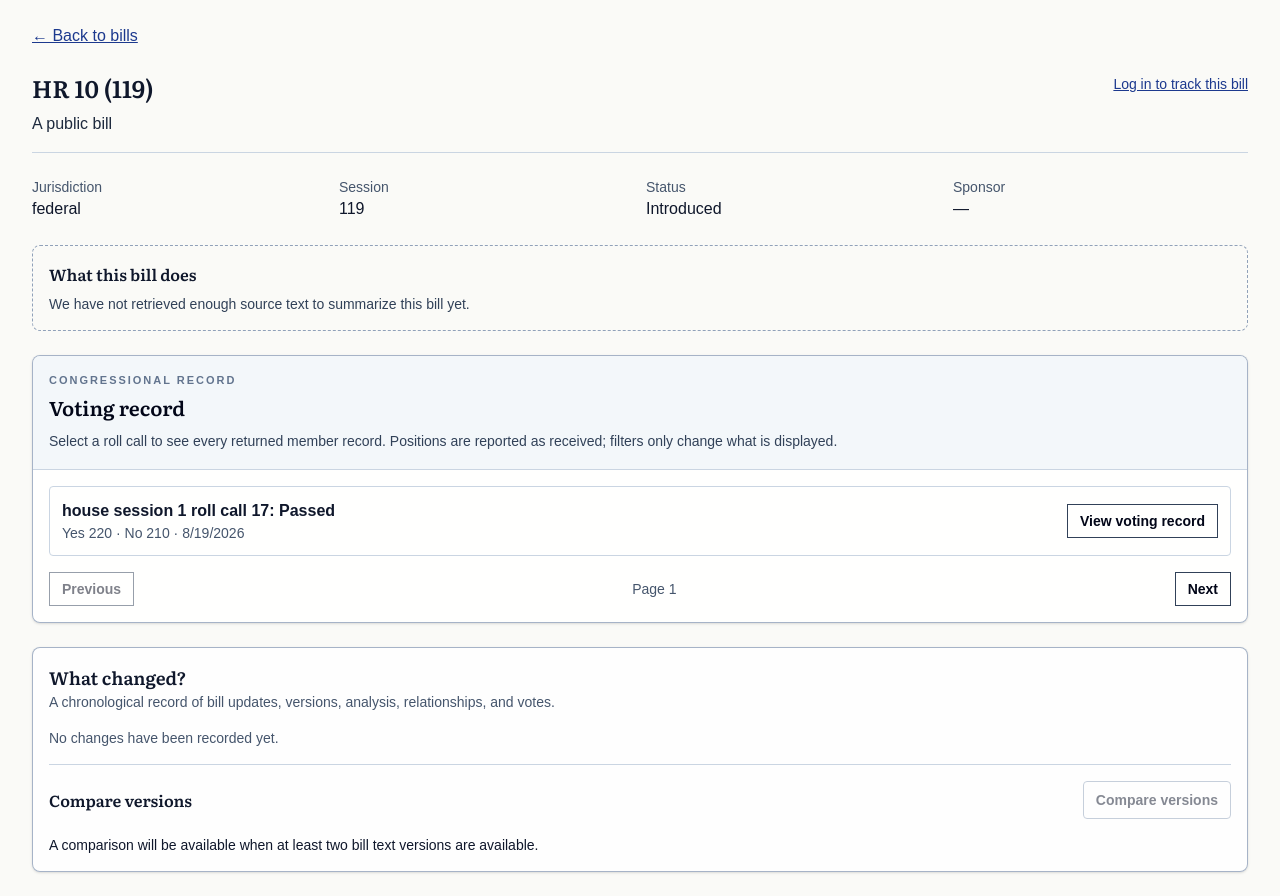
Test: BillDetailPage › keeps vote history visible when a later page fails and retries that section
Check: the text "house session 1 roll call 17: Passed" is shown, box left=62, top=498, right=335, bottom=522
Click the button with aria-label "Next vote history page": [1203, 588] box left=1175, top=572, right=1231, bottom=606
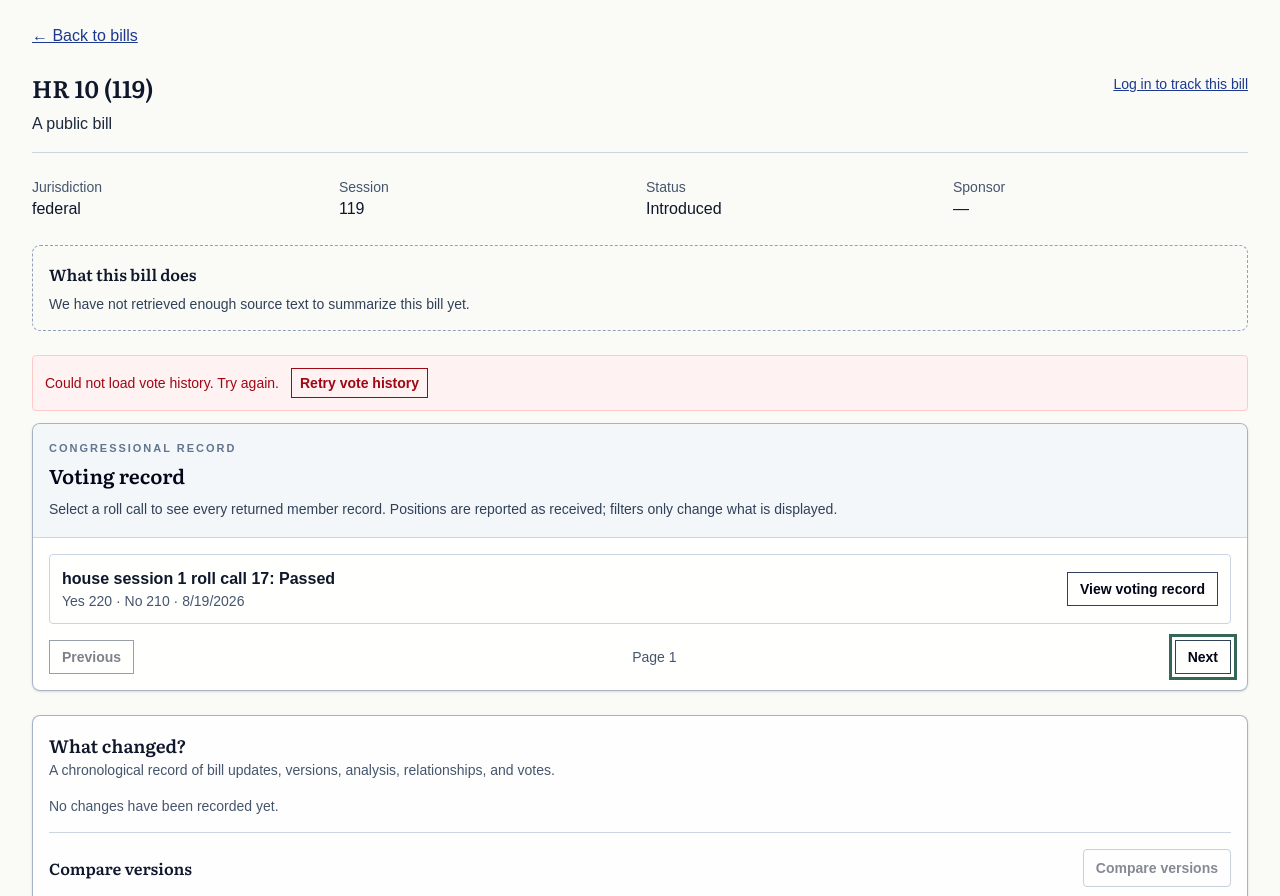
Check: the text "house session 1 roll call 17: Passed" is shown, box left=62, top=566, right=335, bottom=590
Check: the text "Could not load vote history. Try again." is shown, box left=45, top=373, right=279, bottom=393
Click the button "Retry vote history": [360, 383] box left=291, top=368, right=428, bottom=398
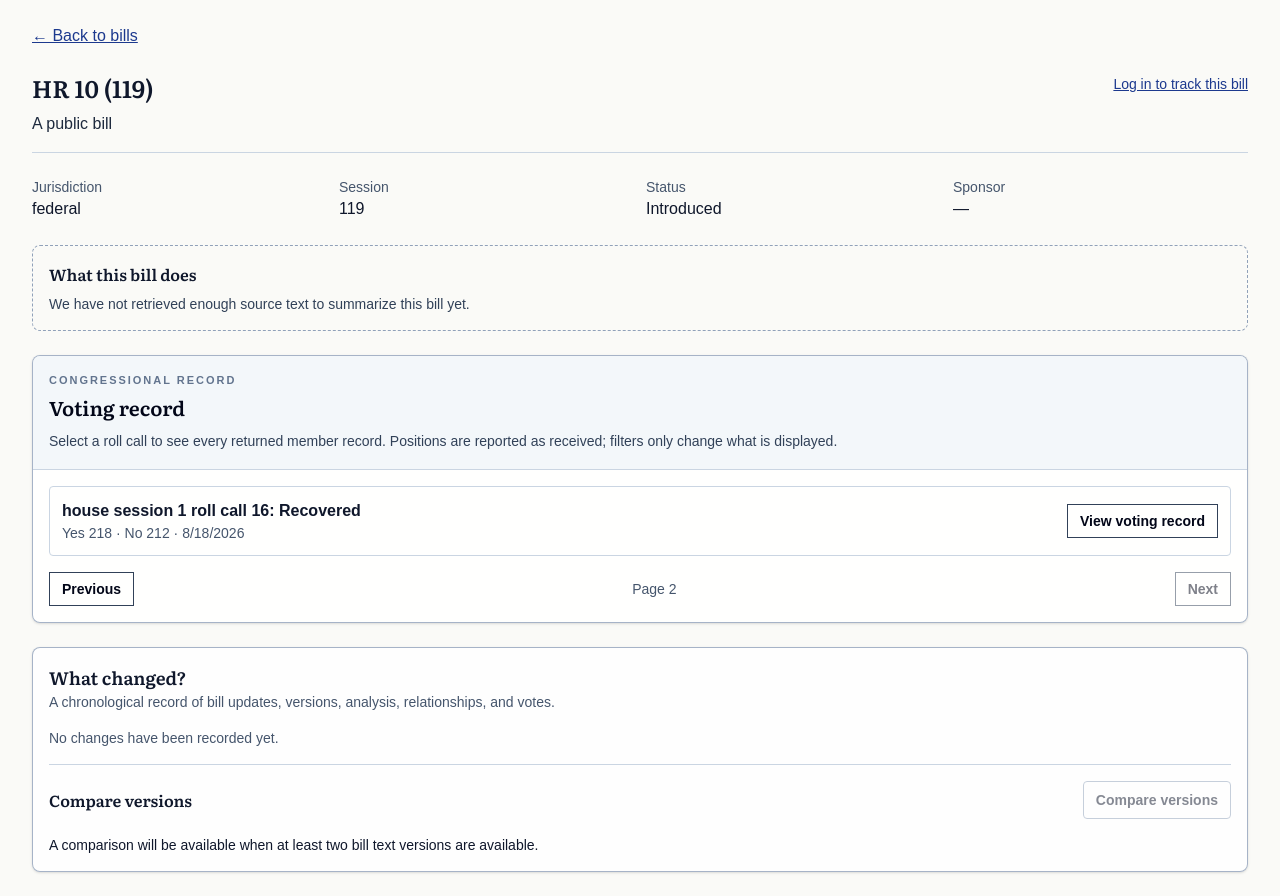
Check: the text "house session 1 roll call 16: Recovered" is shown, box left=62, top=498, right=361, bottom=522
Check: the text "Could not load vote history. Try again." is gone
